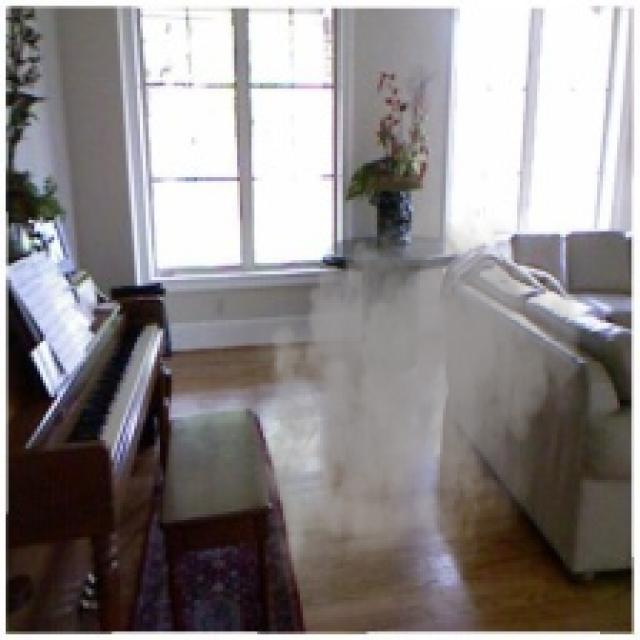Smoke: (246, 192, 592, 597)
